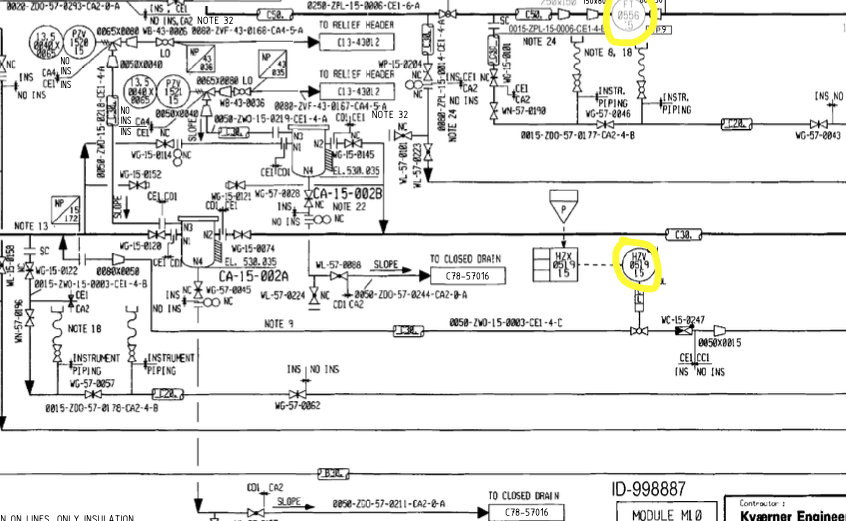Instrument: (620, 246, 665, 284), (28, 23, 64, 60), (122, 73, 157, 109), (63, 24, 98, 60), (610, 1, 646, 35), (156, 74, 190, 110)
Instrument-square: (530, 245, 580, 285)
